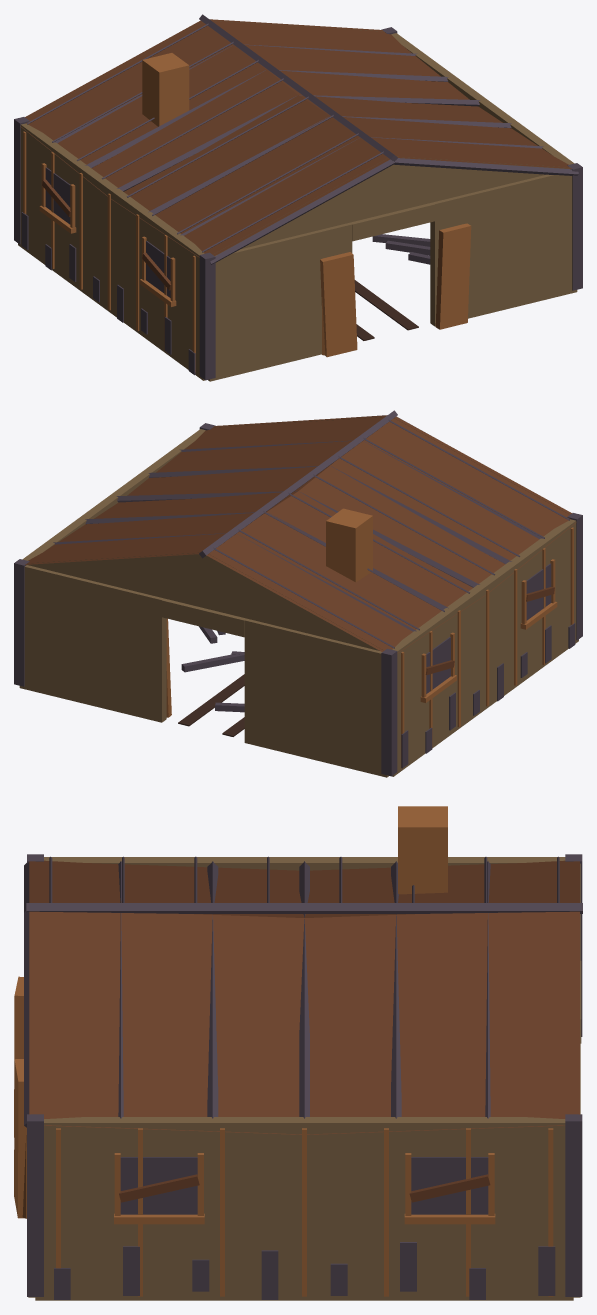
3 renders of one model, top to bottom at view 1: azimuth 30°, elevation 25°; view 2: azimuth 150°, elevation 25°; view 3: azimuth 270°, elevation 25°, orthographic. The views are drawn at different scales.
Visible parts, largest first — view 1: body; view 2: body; view 3: body.
Boxes of the visible parts, x1,y1,x2,y2 form: body: (14, 14, 582, 381); body: (14, 410, 582, 777); body: (14, 806, 582, 1300).
Bounding box in the file's own units: 8.41 × 4.11 × 7.4.
